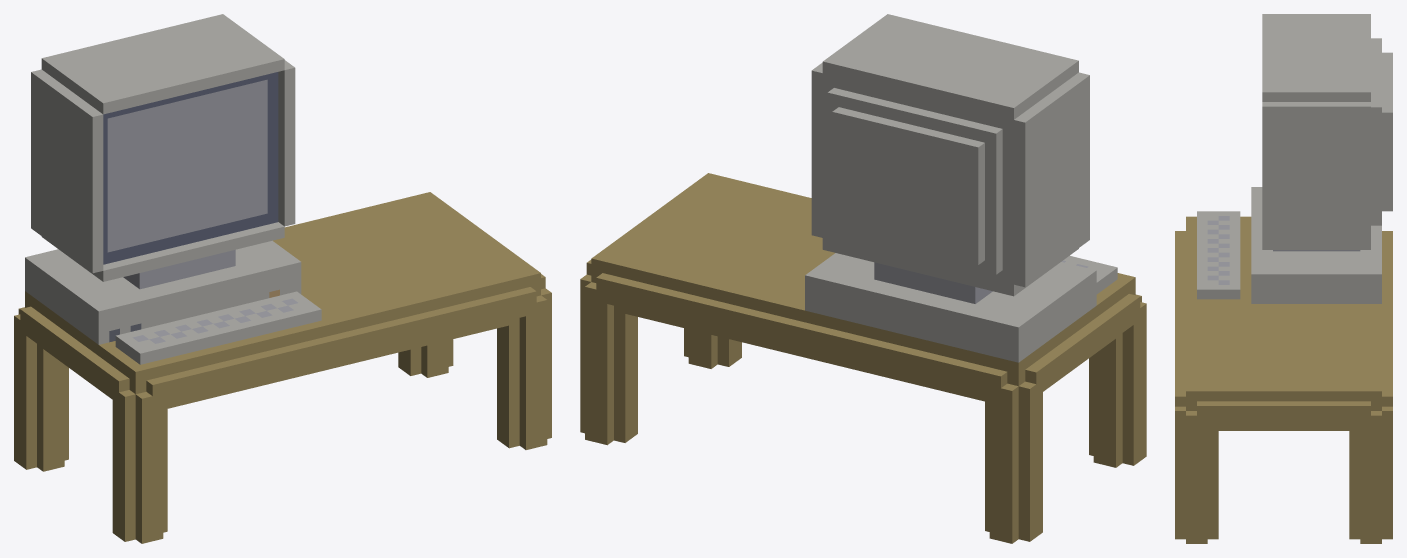
Rendered from PcANdTisch.fbx.
3 renders of one model, left to right at view 1: azimuth 30°, elevation 25°; view 2: azimuth 150°, elevation 25°; view 3: azimuth 270°, elevation 25°, orthographic. The views are drawn at different scales.
Visible parts, largest first — view 1: PCAndTisch; view 2: PCAndTisch; view 3: PCAndTisch.
Boxes of the visible parts, bbox=[...] form: PCAndTisch: bbox=[14, 14, 551, 543]; PCAndTisch: bbox=[580, 14, 1146, 543]; PCAndTisch: bbox=[1175, 14, 1392, 543].
Size of the model in its own units: 250 by 225 by 125.
